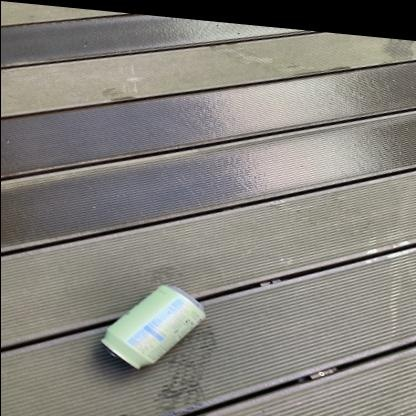trash: (102, 285, 204, 368)
